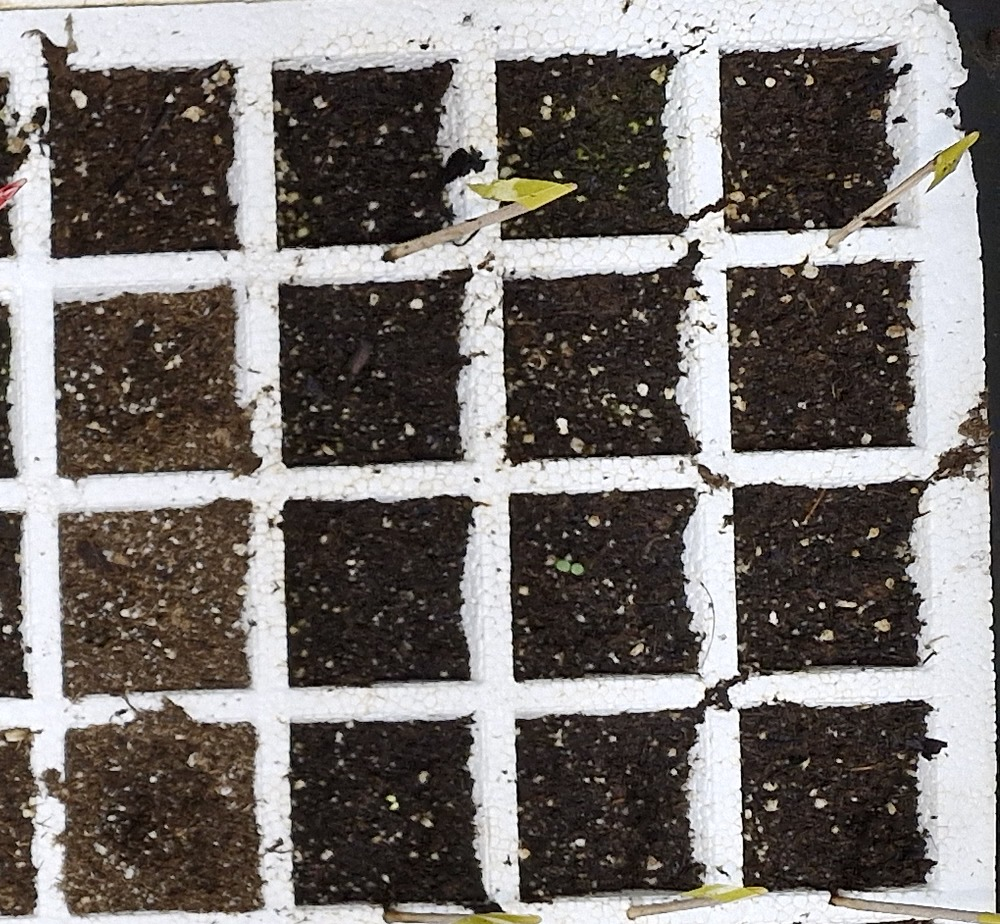Folha: (571, 563, 584, 574), (556, 561, 570, 571)
Germinacao: (556, 560, 585, 575)
